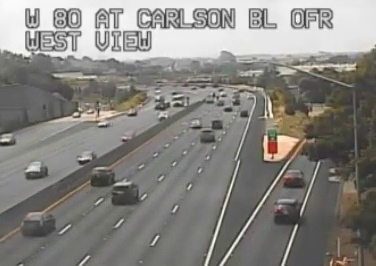car: (20, 212, 55, 234), (274, 198, 298, 225), (110, 182, 137, 204), (90, 167, 113, 186), (283, 170, 304, 188), (199, 129, 214, 142)
